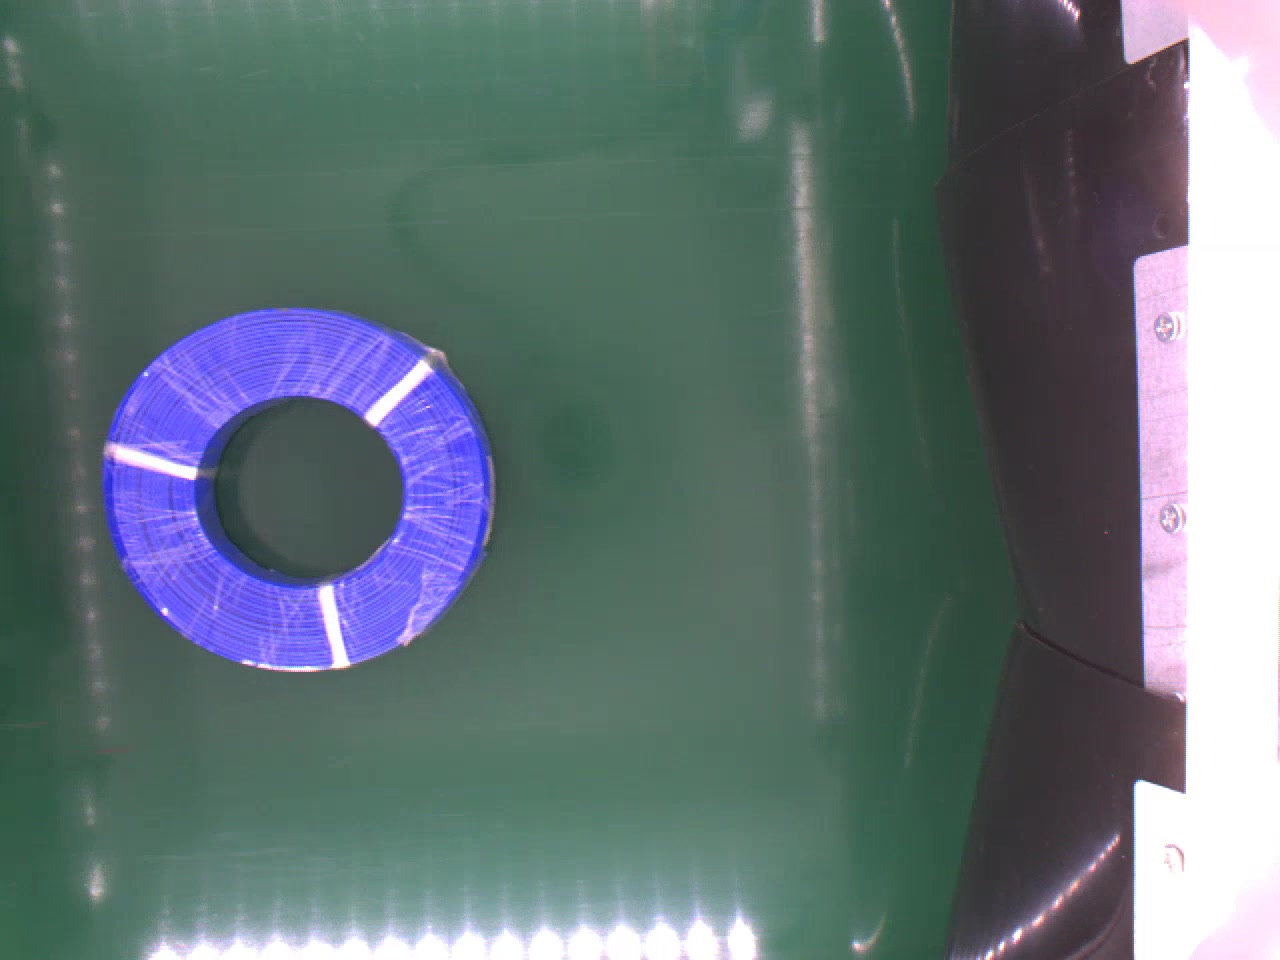blue: (106, 306, 501, 677)
